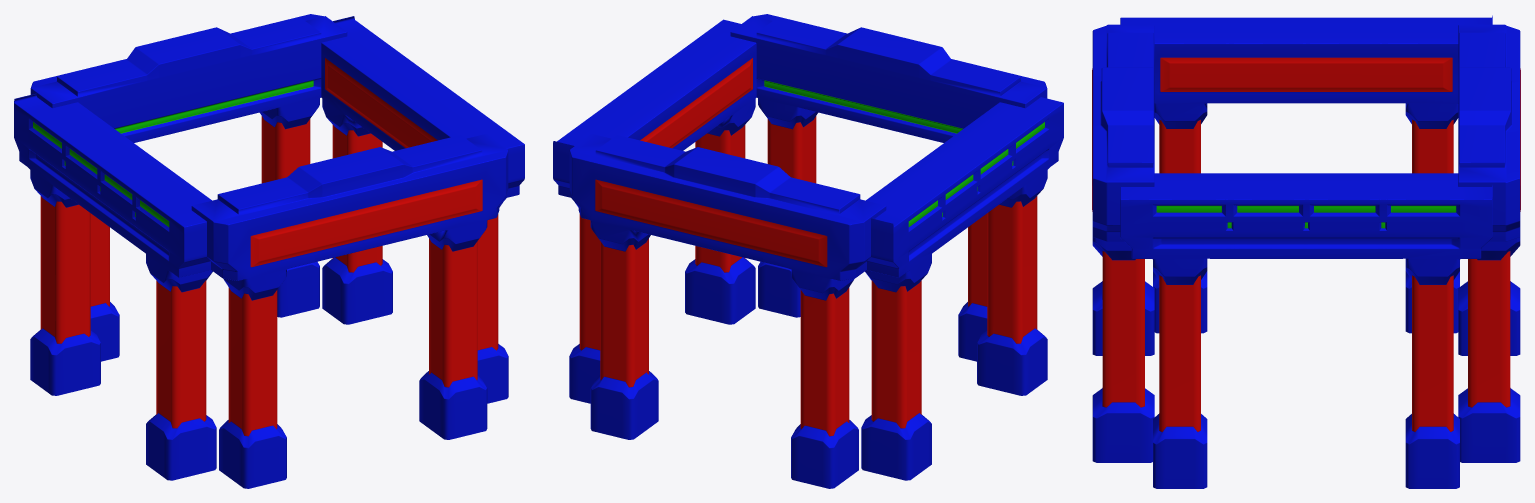
File: QuadArch.fbx
3 views of the same model, side by side, from view 1: azimuth 30°, elevation 25°; view 2: azimuth 150°, elevation 25°; view 3: azimuth 270°, elevation 25° (orthographic). The views are drawn at different scales.
Parts seen in each view (by area): view 1: Arch.002; view 2: Arch.002; view 3: Arch.002.
Boxes of the visible parts, x1=… form: Arch.002: x1=14, y1=14, x2=524, y2=488; Arch.002: x1=553, y1=14, x2=1063, y2=488; Arch.002: x1=1092, y1=15, x2=1520, y2=488.
Bounding box in the file's own units: 693 × 549 × 691.
